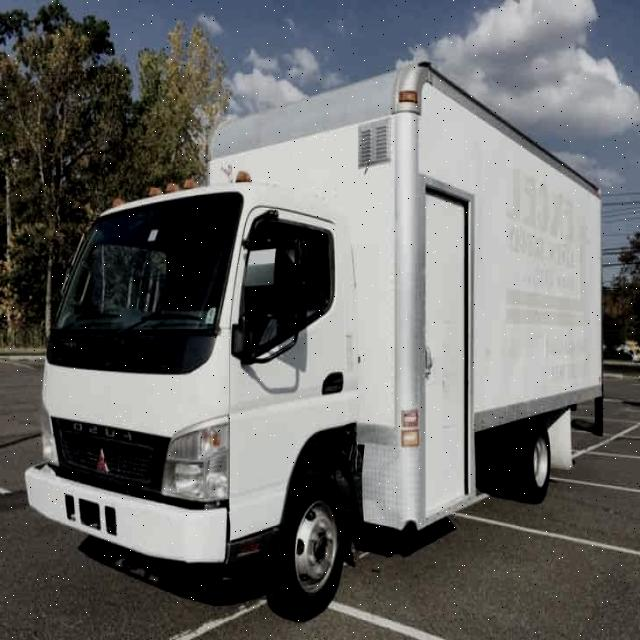truck: (24, 54, 606, 618)
